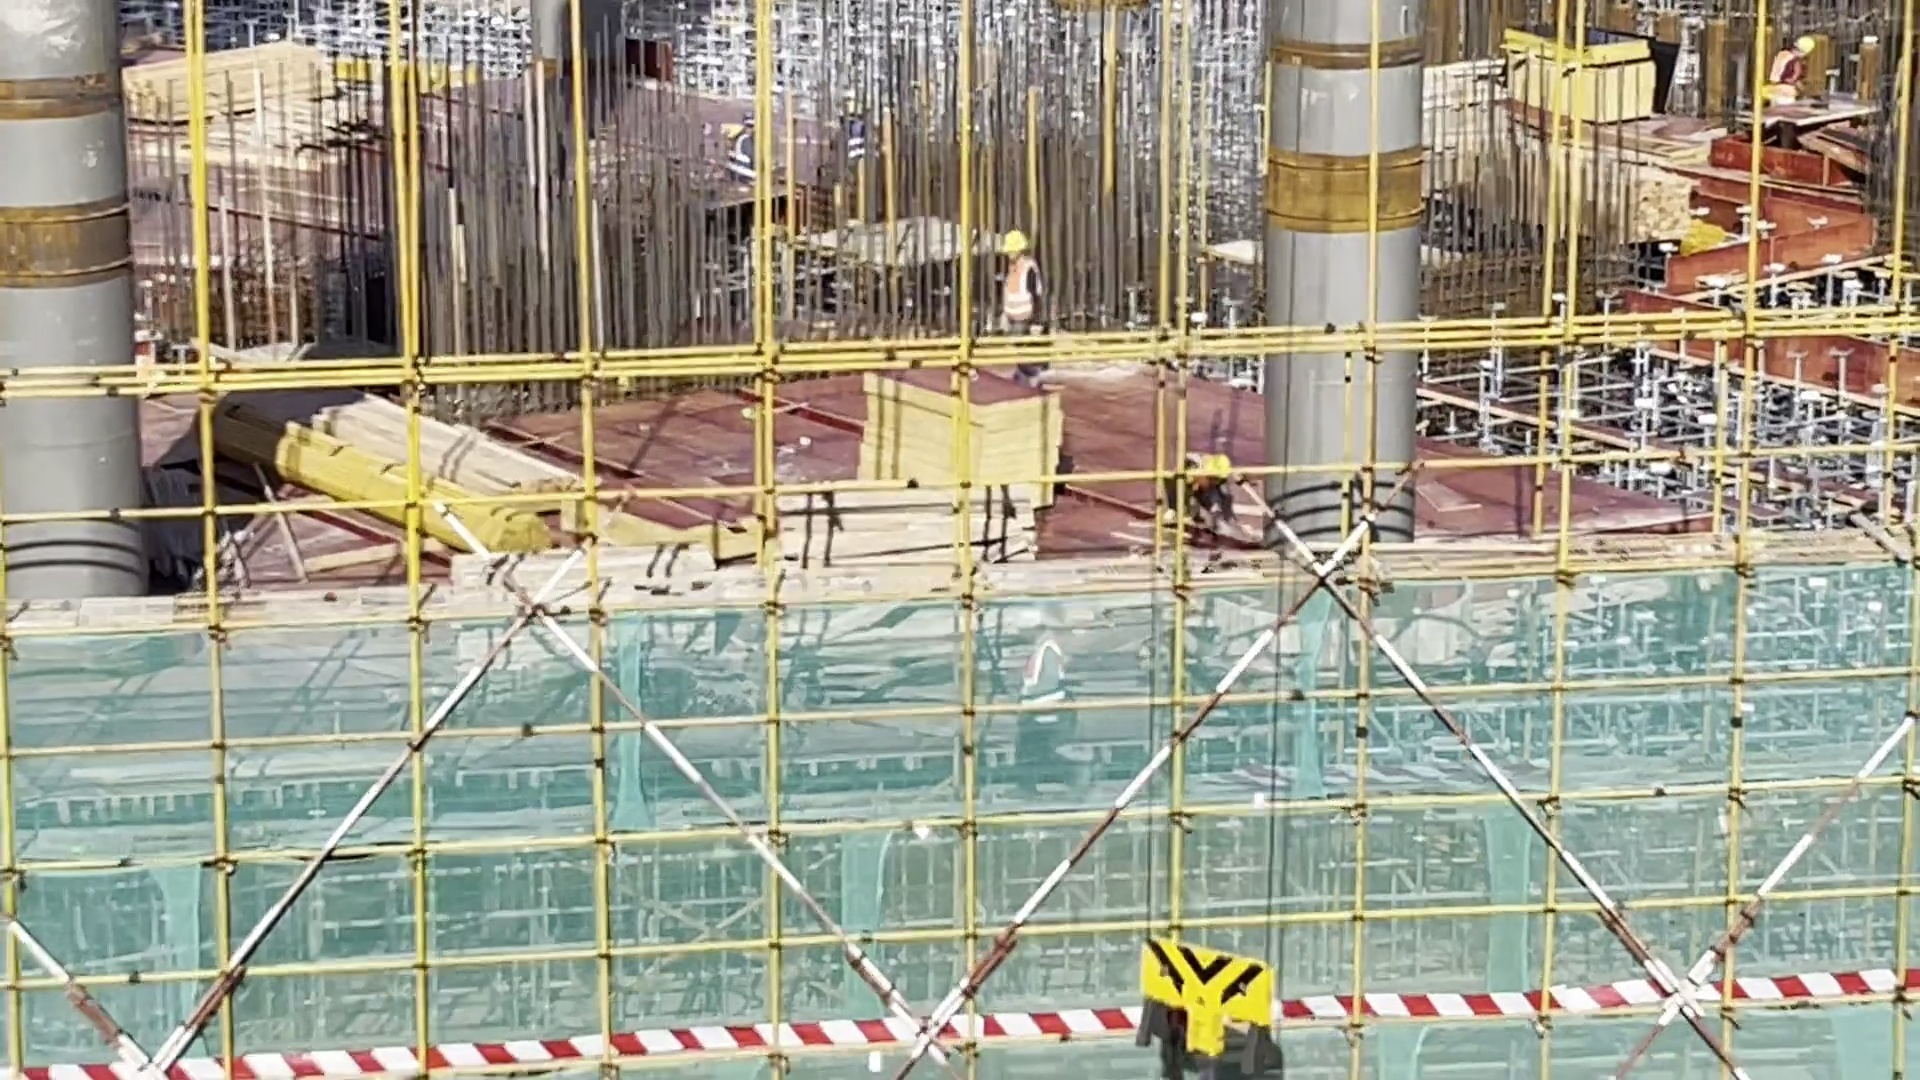board: (867, 366, 1069, 515)
helmet: (1002, 228, 1026, 249), (1796, 35, 1816, 53)
hook: (1135, 927, 1269, 1054)
person: (1166, 439, 1239, 554), (994, 222, 1047, 377), (1767, 23, 1820, 86)
vest: (1000, 256, 1038, 320), (1770, 48, 1793, 81)
wood: (267, 383, 583, 550), (123, 41, 327, 120), (1621, 166, 1700, 247)
